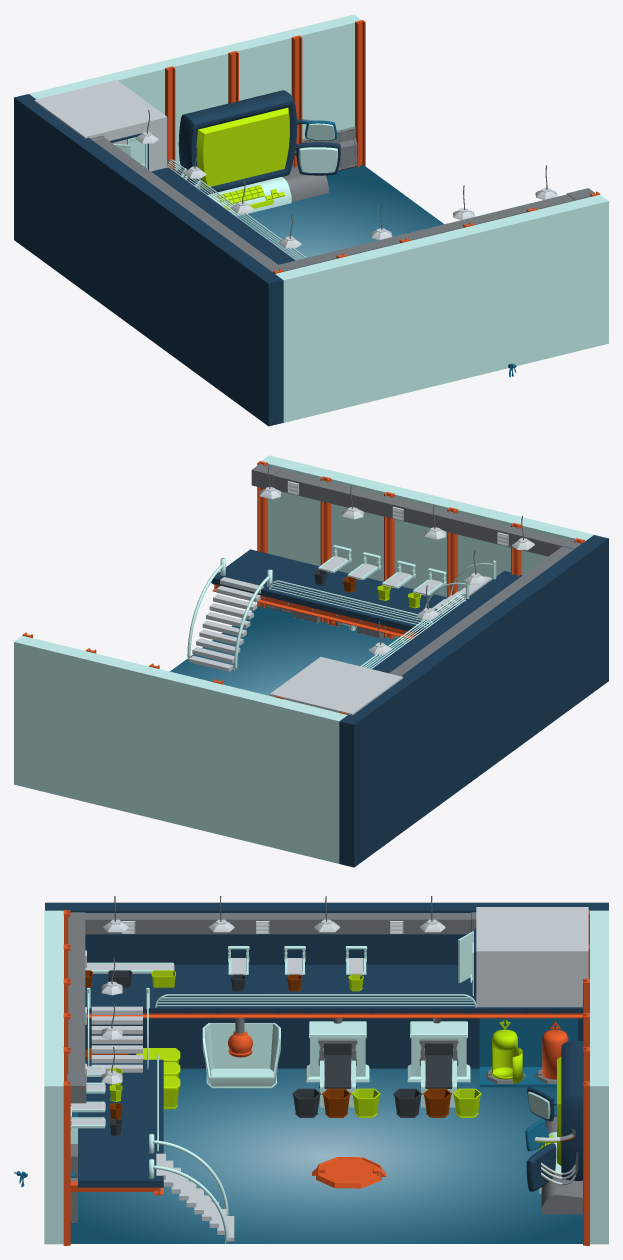
File: Central.fbx
The picture shows the model from 3 angles, top to bottom: view 1: azimuth 30°, elevation 25°; view 2: azimuth 150°, elevation 25°; view 3: azimuth 270°, elevation 25°; orthographic projection. The views are drawn at different scales.
Visible parts, largest first — view 1: Cube.240, Cube.232, Cube.236, Cube.230, Plane.020, Cube.238, Cube.254, Cube.244, Plane.019, Cube.260, Cube.261, Cylinder.221 (+5 smaller); view 2: Cube.236, Cube.232, Cube.240, Plane.020, Cube.254, Plane.015, Cube.238, Cube.244, Cube.242, Plane.019, Cylinder.201, Beam.032 (+3 smaller); view 3: Plane.020, Cube.232, Plane.019, Cube.238, Cube.254, Plane.015, Cube.240, Cube.236, Cylinder.205, Cube.244, Cube.239, Cube.230 (+36 smaller).
Boxes of the visible parts, <box> form: Cube.240: <box>275,194,608,422</box>; Cube.232: <box>14,94,283,426</box>; Cube.236: <box>29,14,361,169</box>; Cube.230: <box>178,90,297,194</box>; Plane.020: <box>237,165,443,260</box>; Cube.238: <box>34,80,167,171</box>; Cube.254: <box>90,135,595,272</box>; Cube.244: <box>165,20,600,273</box>; Plane.019: <box>151,167,294,264</box>; Cube.260: <box>208,166,328,216</box>; Cube.261: <box>296,142,340,175</box>; Cylinder.221: <box>166,159,306,260</box>; Cube.236: <box>14,635,347,863</box>; Cube.232: <box>339,535,608,867</box>; Cube.240: <box>261,455,593,637</box>; Plane.020: <box>170,606,403,695</box>; Cube.254: <box>251,463,580,676</box>; Plane.015: <box>211,549,455,633</box>; Cube.238: <box>270,657,403,715</box>; Cube.244: <box>22,461,584,714</box>; Cube.242: <box>189,577,263,671</box>; Plane.019: <box>372,571,522,673</box>; Cylinder.201: <box>269,580,432,627</box>; Beam.032: <box>212,584,417,639</box>; Plane.020: <box>70,1068,582,1243</box>; Cube.232: <box>45,902,608,1068</box>; Plane.019: <box>85,965,582,1013</box>; Cube.238: <box>476,907,588,1007</box>; Cube.254: <box>67,912,476,1103</box>; Plane.015: <box>78,1059,163,1187</box>; Cube.240: <box>44,910,63,1244</box>; Cube.236: <box>590,910,608,1244</box>; Cylinder.205: <box>202,1023,280,1088</box>; Cube.244: <box>63,910,589,1245</box>; Cube.239: <box>479,1018,577,1087</box>; Cube.230: <box>557,1041,582,1180</box>.
Bounding box in the file's own units: 46.26 × 22.89 × 62.55.
